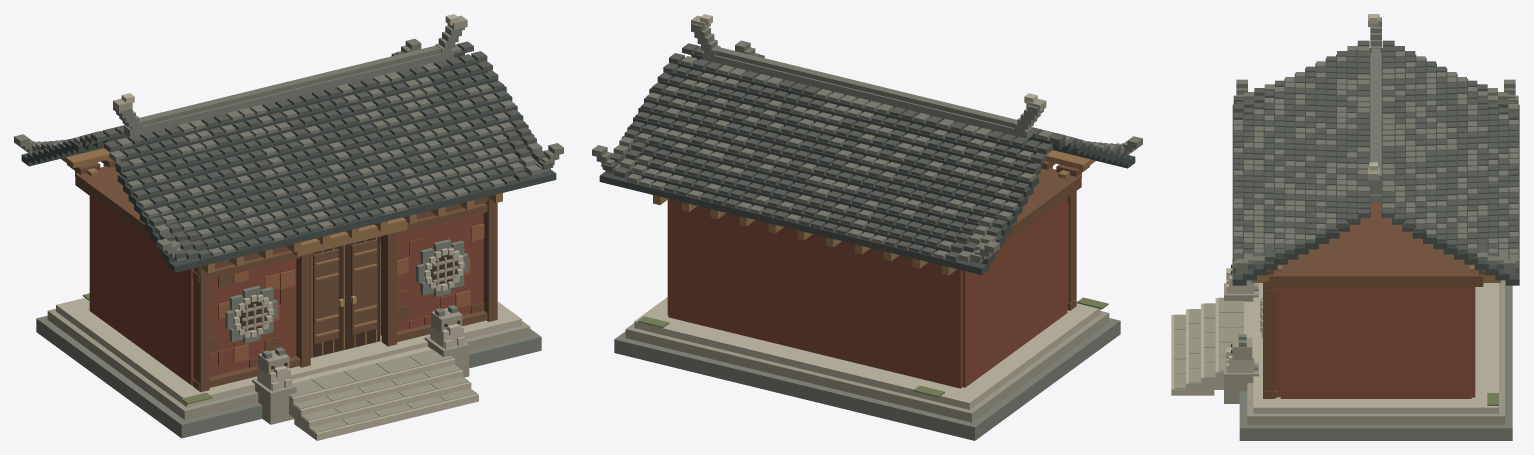
The model's file is asset-9ae945558560.glb.
3 renders of one model, left to right at view 1: azimuth 30°, elevation 25°; view 2: azimuth 150°, elevation 25°; view 3: azimuth 270°, elevation 25°, orthographic. The views are drawn at different scales.
Parts seen in each view (by area): view 1: Root_mcRoof, Root_mcRoofDark, Root_mcRed, Root_mcRoofLight, Root_mcWood, Root_mcStoneLight, Root_mcStone, Root_mcStoneDark, Root_mcWoodLight, Root_mcDoor, Root_mcRedLight; view 2: Root_mcRed, Root_mcRoof, Root_mcRoofDark, Root_mcRoofLight, Root_mcStoneDark, Root_mcStoneLight, Root_mcStone, Root_mcWood, Root_mcWoodLight, Root_mcMoss; view 3: Root_mcRoof, Root_mcRed, Root_mcRoofLight, Root_mcWood, Root_mcStoneLight, Root_mcRoofDark, Root_mcStone, Root_mcStoneDark, Root_mcWoodLight.
Part boxes in pixels (x1=…): Root_mcRoof: x1=41, y1=41, x2=553, y2=259; Root_mcRoofDark: x1=21, y1=50, x2=556, y2=272; Root_mcRed: x1=89, y1=196, x2=483, y2=385; Root_mcRoofLight: x1=14, y1=38, x2=563, y2=261; Root_mcWood: x1=67, y1=159, x2=497, y2=391; Root_mcStoneLight: x1=56, y1=14, x2=521, y2=440; Root_mcStone: x1=47, y1=15, x2=530, y2=432; Root_mcStoneDark: x1=36, y1=25, x2=541, y2=438; Root_mcWoodLight: x1=61, y1=148, x2=502, y2=357; Root_mcDoor: x1=239, y1=236, x2=460, y2=369; Root_mcRedLight: x1=218, y1=223, x2=484, y2=362; Root_mcRed: x1=667, y1=197, x2=1068, y2=388; Root_mcRoof: x1=602, y1=43, x2=1122, y2=261; Root_mcRoofDark: x1=599, y1=52, x2=1135, y2=274; Root_mcRoofLight: x1=592, y1=40, x2=1142, y2=263; Root_mcStoneDark: x1=614, y1=23, x2=1120, y2=440; Root_mcStoneLight: x1=634, y1=14, x2=1100, y2=409; Root_mcStone: x1=625, y1=15, x2=1109, y2=422; Root_mcWood: x1=1000, y1=161, x2=1089, y2=310; Root_mcWoodLight: x1=653, y1=150, x2=1095, y2=275; Root_mcMoss: x1=638, y1=297, x2=1108, y2=397; Root_mcRoof: x1=1233, y1=40, x2=1518, y2=272; Root_mcRed: x1=1274, y1=287, x2=1475, y2=398; Root_mcRoofLight: x1=1233, y1=46, x2=1518, y2=275; Root_mcWood: x1=1263, y1=202, x2=1484, y2=398; Root_mcStoneLight: x1=1171, y1=14, x2=1498, y2=413; Root_mcRoofDark: x1=1232, y1=48, x2=1519, y2=285; Root_mcStone: x1=1174, y1=14, x2=1504, y2=424; Root_mcStoneDark: x1=1238, y1=17, x2=1512, y2=440; Root_mcWoodLight: x1=1251, y1=265, x2=1500, y2=282.
Bounding box in the file's own units: 11.14 × 7.59 × 8.93.
